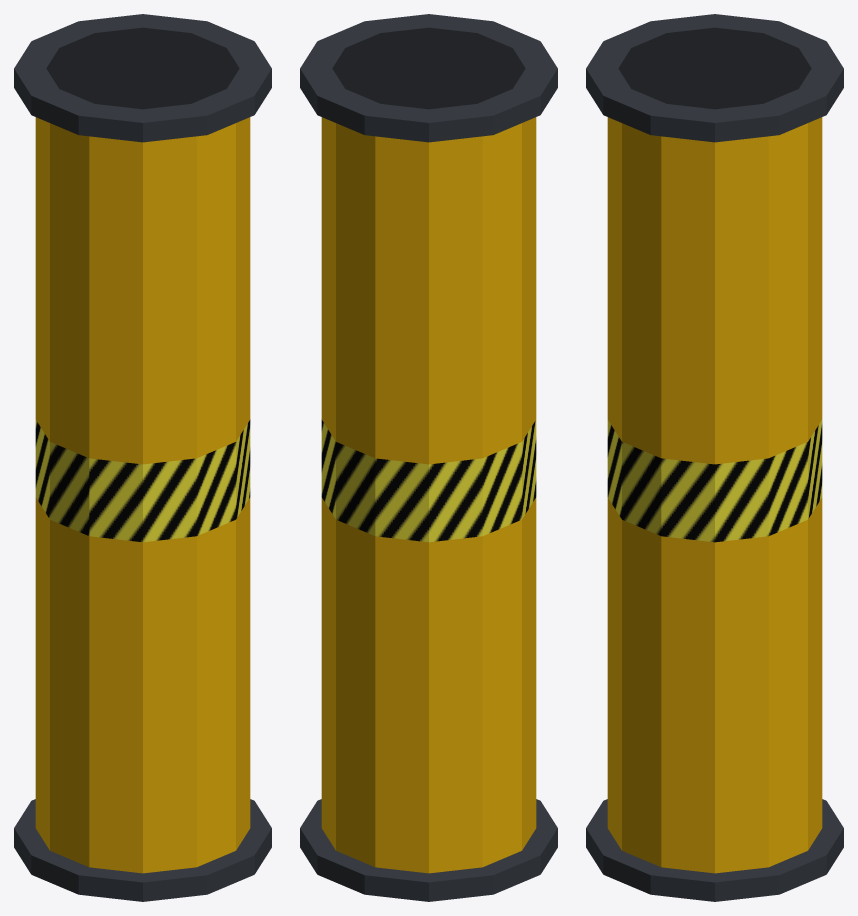
The model's file is Pipe_0.5x2.fbx.
3 views of the same model, side by side, from view 1: azimuth 30°, elevation 25°; view 2: azimuth 150°, elevation 25°; view 3: azimuth 270°, elevation 25° (orthographic).
Visible parts, largest first — view 1: Pipe_0.5x2; view 2: Pipe_0.5x2; view 3: Pipe_0.5x2.
Boxes of the visible parts, box(x1,y1,x2,y2) form: Pipe_0.5x2: box(14, 14, 271, 901); Pipe_0.5x2: box(300, 14, 557, 901); Pipe_0.5x2: box(586, 14, 843, 901).
Size of the model in its own units: 60 by 200 by 60.
